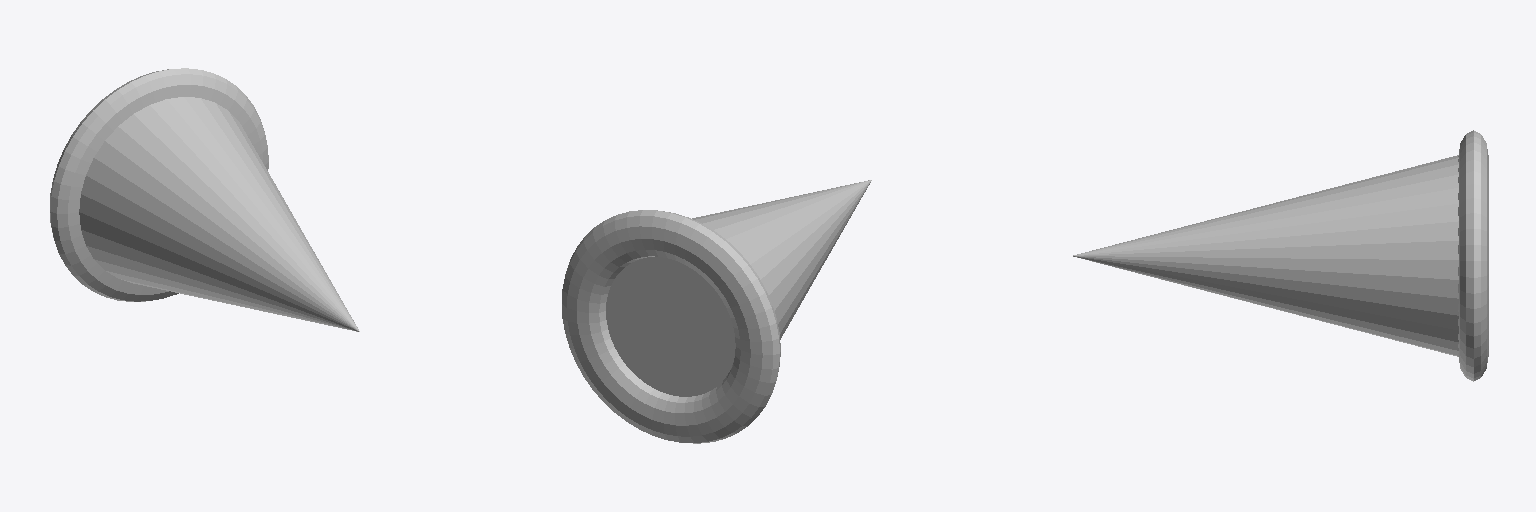
File: EnemyModel.obj
The picture shows the model from 3 angles: view 1: azimuth 30°, elevation 25°; view 2: azimuth 150°, elevation 25°; view 3: azimuth 270°, elevation 25°; orthographic projection.
Visible parts, largest first — view 1: Cone.001, Torus; view 2: Torus, Cone.001; view 3: Cone.001, Torus.
Part boxes in pixels (left/top/right/bottom): Cone.001: left=79, top=97, right=359, bottom=331; Torus: left=50, top=68, right=268, bottom=301; Torus: left=562, top=210, right=780, bottom=443; Cone.001: left=606, top=180, right=871, bottom=396; Cone.001: left=1073, top=155, right=1458, bottom=356; Torus: left=1458, top=130, right=1488, bottom=381.
Size of the model in its own units: 1.25 by 1.25 by 2.08.